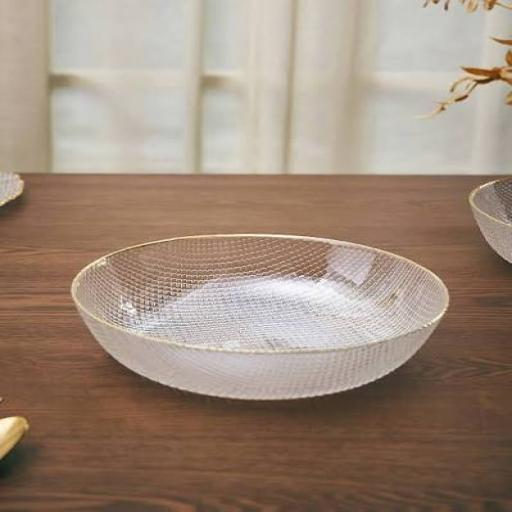Bowl: (71, 234, 448, 400)
